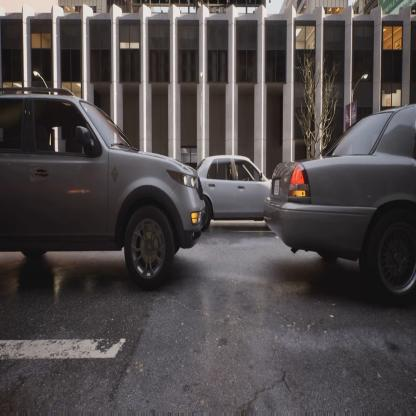License-Plate: (272, 177, 282, 203)
